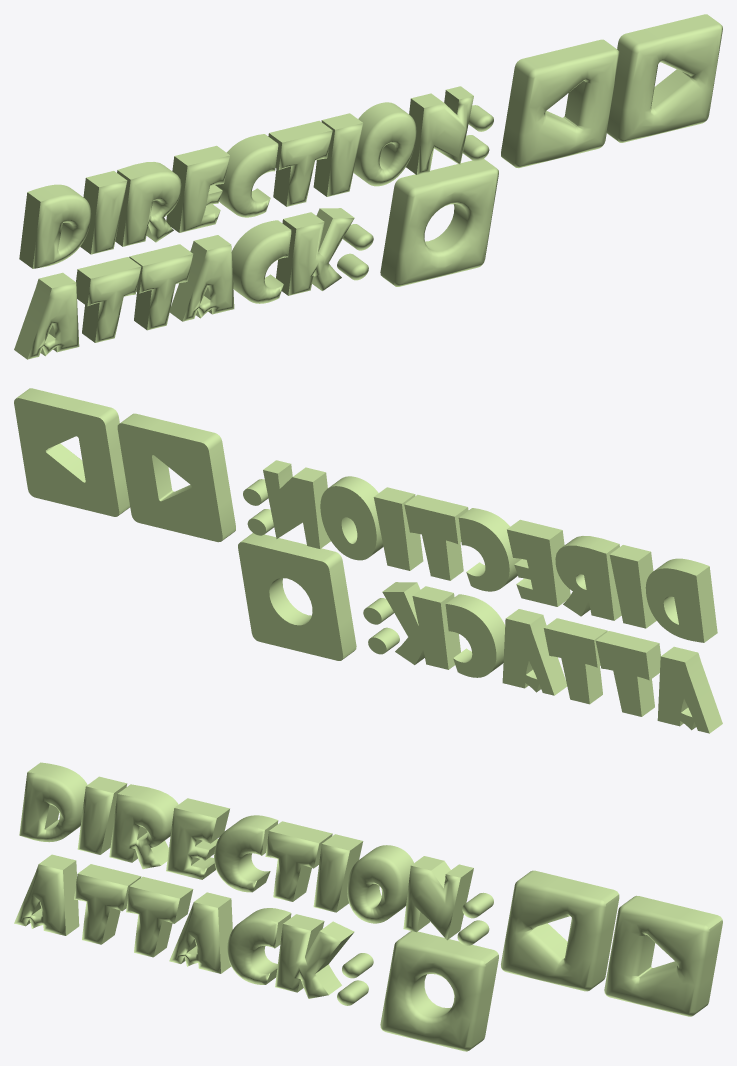
Rendered from direction.dae.
3 renders of one model, top to bottom at view 1: azimuth 30°, elevation 25°; view 2: azimuth 150°, elevation 25°; view 3: azimuth 330°, elevation 25°, orthographic.
Parts seen in each view (by area): view 1: direction______attack___; view 2: direction______attack___; view 3: direction______attack___.
Part boxes in pixels (bbox=[...]): direction______attack___: bbox=[14, 14, 722, 359]; direction______attack___: bbox=[14, 388, 722, 733]; direction______attack___: bbox=[14, 762, 722, 1051].
Size of the model in its own units: 301 by 76.54 by 14.21.
